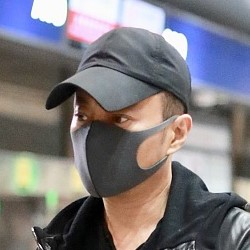mask: (53, 116, 187, 197)
